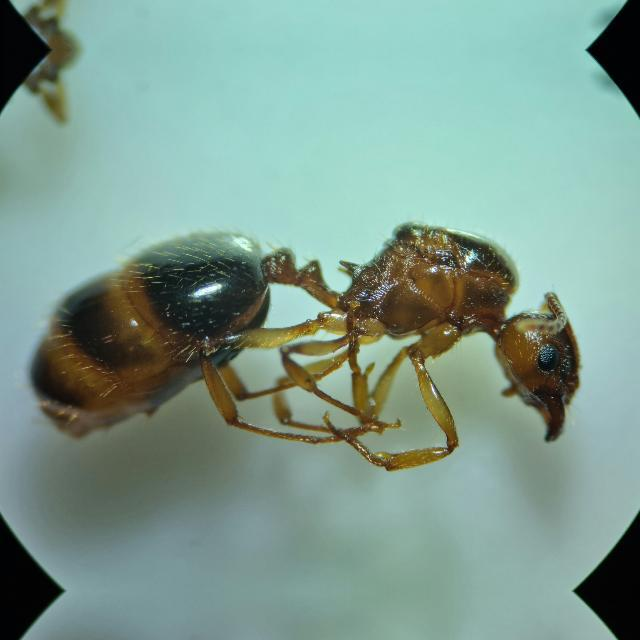Apheanogaster: (34, 191, 616, 481)
